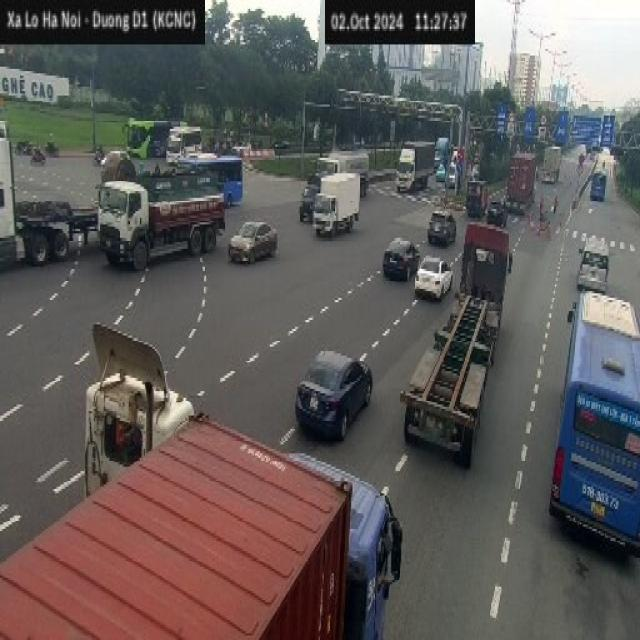bus: (548, 289, 638, 555)
car: (294, 349, 372, 440), (228, 220, 278, 262), (413, 253, 452, 300), (381, 236, 420, 280)
container-truck: (0, 406, 407, 640), (402, 217, 514, 468), (71, 316, 198, 492)
truck: (96, 173, 225, 269)
